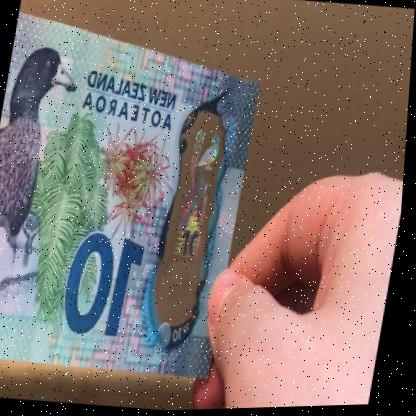10F: (162, 123, 228, 306)
